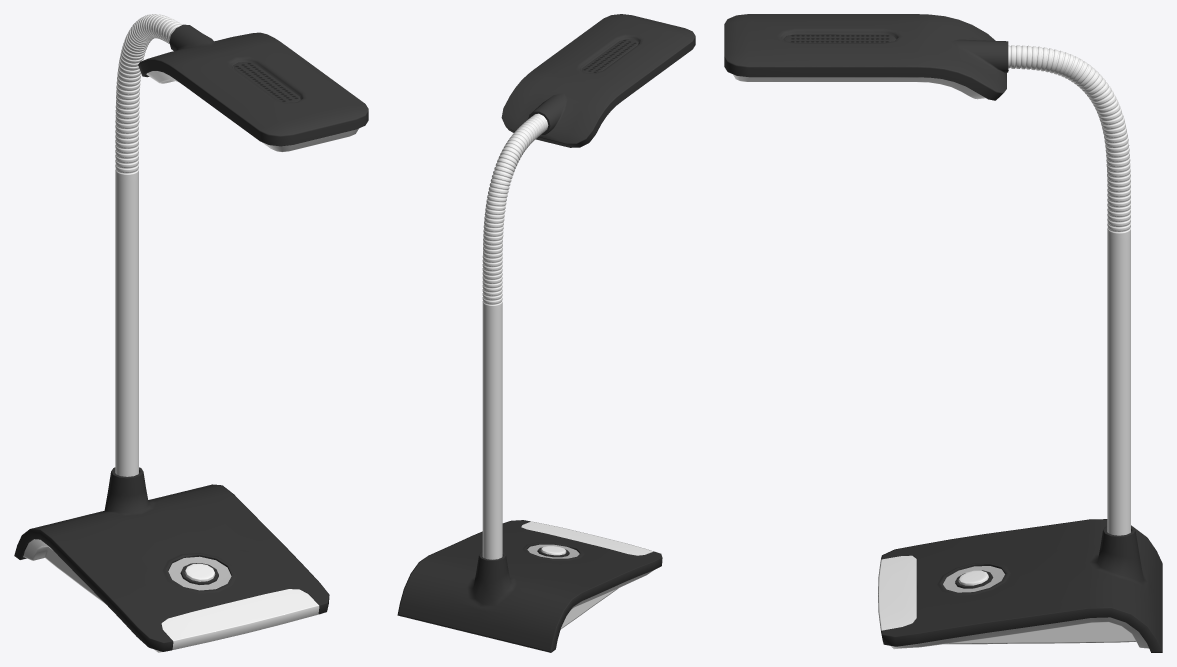
File: lamp3.glb
3 renders of one model, left to right at view 1: azimuth 30°, elevation 25°; view 2: azimuth 150°, elevation 25°; view 3: azimuth 270°, elevation 25°, orthographic. The views are drawn at different scales.
Visible parts, largest first — view 1: extracted_01_2, extracted_01_1, extracted_01_4, extracted_01_3; view 2: extracted_01_2, extracted_01_4, extracted_01_1; view 3: extracted_01_2, extracted_01_1, extracted_01_4, extracted_01_3.
Part boxes in pixels (bbox=[...]): extracted_01_2: bbox=[14, 467, 329, 651]; extracted_01_1: bbox=[23, 14, 358, 652]; extracted_01_4: bbox=[138, 24, 368, 146]; extracted_01_3: bbox=[168, 556, 231, 590]; extracted_01_2: bbox=[397, 520, 662, 652]; extracted_01_4: bbox=[501, 14, 695, 147]; extracted_01_1: bbox=[482, 113, 653, 629]; extracted_01_2: bbox=[881, 519, 1162, 652]; extracted_01_1: bbox=[733, 45, 1148, 649]; extracted_01_4: bbox=[724, 14, 1008, 100]; extracted_01_3: bbox=[943, 566, 1004, 592].
Bounding box in the file's own units: 0.125 × 0.3746 × 0.2598.
5 materials, 1 textured.
